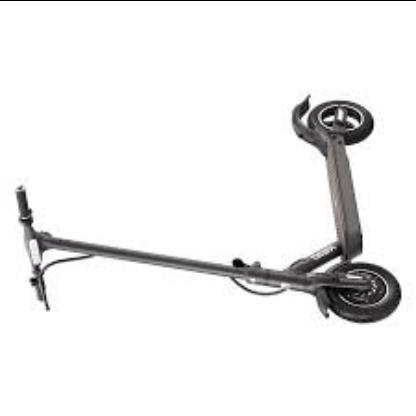bike: (12, 93, 402, 326), (229, 96, 402, 325)
